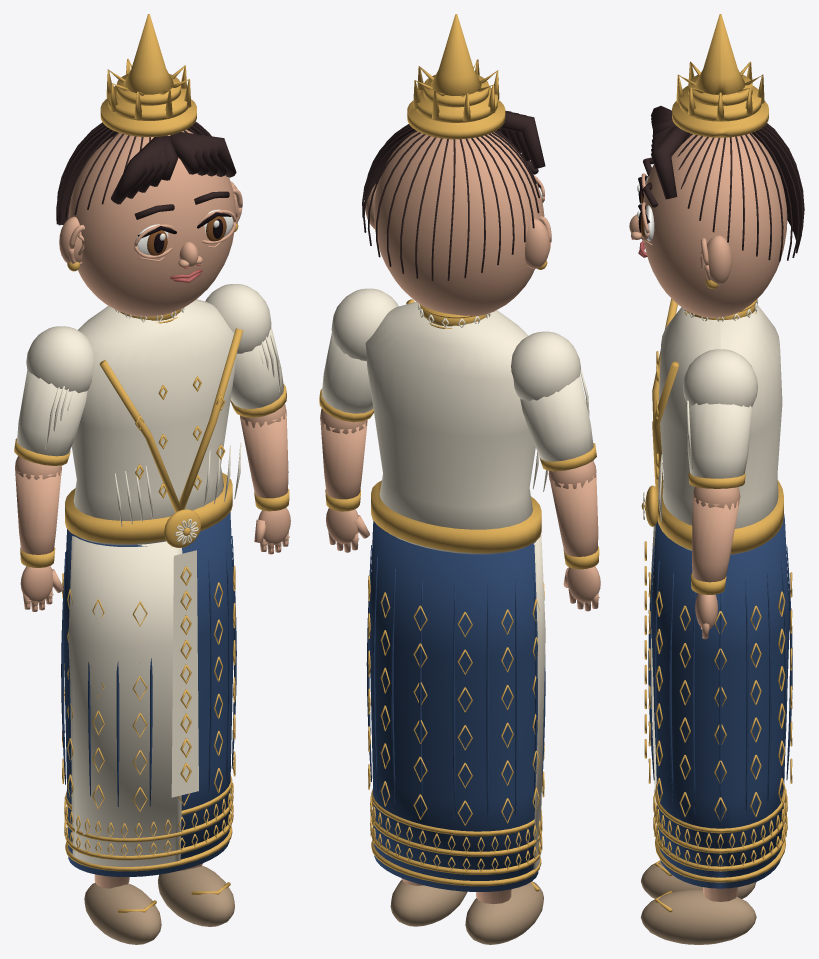
The model's file is visitor-male-refined.glb.
The picture shows the model from 3 angles, left to right: view 1: azimuth 30°, elevation 25°; view 2: azimuth 150°, elevation 25°; view 3: azimuth 270°, elevation 25°; orthographic projection.
Visible parts, largest first — view 1: Skirt Ivory silk, Upper Ivory silk, Head Warm porcelain skin, Skirt Midnight blue silk, Upper Embossed gold, Skirt Embossed gold, Head Ink brown hair, ArmL Ivory silk, Head Embossed gold, ArmR Ivory silk, ForearmL Warm porcelain skin, KneeL Cream shoes (+6 smaller); view 2: Skirt Midnight blue silk, Upper Ivory silk, Head Warm porcelain skin, Skirt Embossed gold, ArmL Ivory silk, Head Ink brown hair, Head Embossed gold, ArmR Ivory silk, Upper Embossed gold, ForearmL Warm porcelain skin, ForearmR Warm porcelain skin, KneeL Cream shoes (+5 smaller); view 3: Skirt Midnight blue silk, Head Warm porcelain skin, Upper Ivory silk, Skirt Embossed gold, ArmR Ivory silk, Head Ink brown hair, Head Embossed gold, KneeR Cream shoes, Upper Embossed gold, ForearmR Warm porcelain skin, KneeL Cream shoes, HandR Warm porcelain skin (+4 smaller).
Part boxes in pixels (bbox=[...]): Skirt Ivory silk: bbox=[68, 536, 198, 866]; Upper Ivory silk: bbox=[71, 299, 241, 545]; Head Warm porcelain skin: bbox=[59, 129, 242, 316]; Skirt Midnight blue silk: bbox=[61, 512, 236, 876]; Upper Embossed gold: bbox=[65, 309, 243, 547]; Skirt Embossed gold: bbox=[62, 566, 235, 871]; Head Ink brown hair: bbox=[56, 122, 236, 225]; ArmL Ivory silk: bbox=[17, 326, 94, 456]; Head Embossed gold: bbox=[67, 14, 238, 271]; ArmR Ivory silk: bbox=[205, 284, 283, 408]; ForearmL Warm porcelain skin: bbox=[15, 456, 61, 554]; KneeL Cream shoes: bbox=[84, 882, 161, 944]; Skirt Midnight blue silk: bbox=[366, 521, 545, 891]; Upper Ivory silk: bbox=[365, 302, 548, 554]; Head Warm porcelain skin: bbox=[365, 131, 551, 316]; Skirt Embossed gold: bbox=[368, 575, 544, 886]; ArmL Ivory silk: bbox=[511, 331, 593, 471]; Head Ink brown hair: bbox=[362, 110, 545, 280]; Head Embossed gold: bbox=[407, 14, 547, 269]; ArmR Ivory silk: bbox=[322, 288, 398, 413]; Upper Embossed gold: bbox=[371, 299, 541, 552]; ForearmL Warm porcelain skin: bbox=[548, 461, 598, 556]; ForearmR Warm porcelain skin: bbox=[320, 408, 367, 499]; KneeL Cream shoes: bbox=[465, 881, 543, 944]; Skirt Midnight blue silk: bbox=[648, 514, 792, 888]; Head Warm porcelain skin: bbox=[629, 133, 787, 317]; Upper Ivory silk: bbox=[643, 299, 782, 554]; Skirt Embossed gold: bbox=[644, 541, 792, 882]; ArmR Ivory silk: bbox=[683, 349, 757, 478]; Head Ink brown hair: bbox=[643, 106, 804, 261]; Head Embossed gold: bbox=[672, 14, 768, 288]; KneeR Cream shoes: bbox=[640, 889, 756, 944]; Upper Embossed gold: bbox=[641, 298, 783, 553]; ForearmR Warm porcelain skin: bbox=[692, 487, 740, 582]; KneeL Cream shoes: bbox=[641, 861, 756, 898]; HandR Warm porcelain skin: bbox=[695, 593, 717, 639].
Size of the model in its own units: 0.628 by 2.03 by 0.3538.
